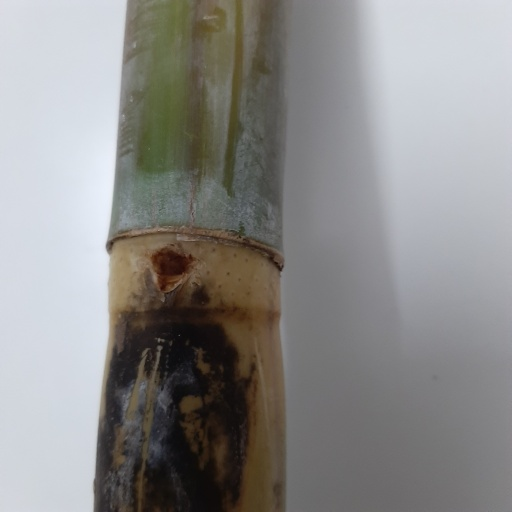Damage_Bud: (149, 242, 198, 295)
